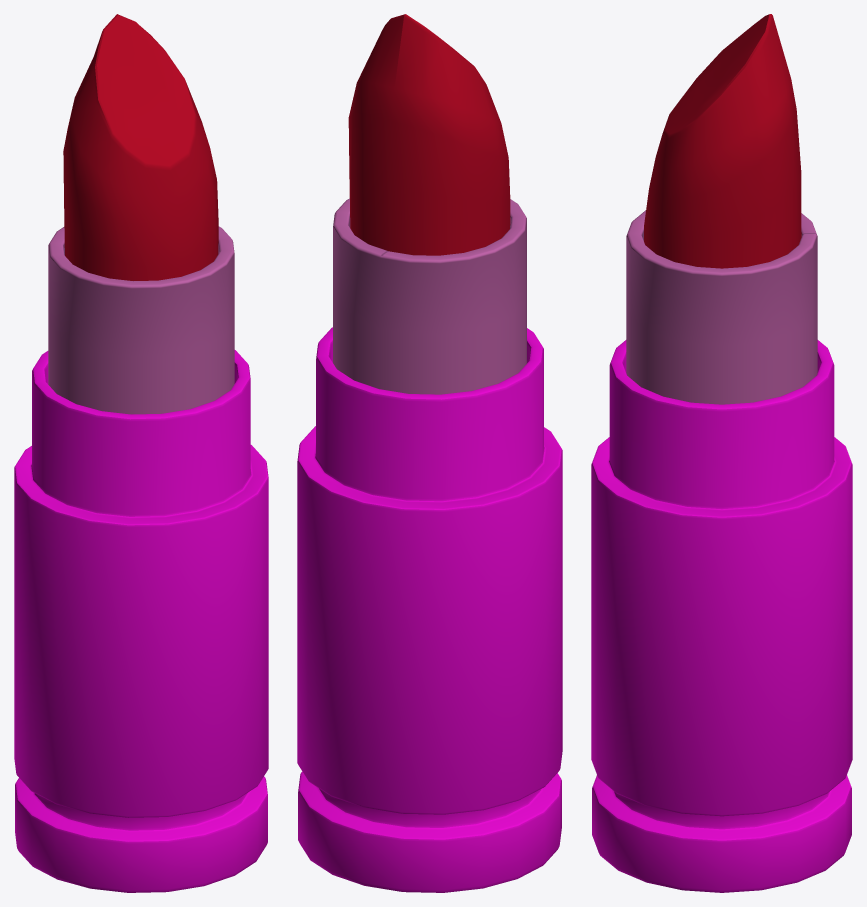
The model's file is lipstick.glb.
3 renders of one model, left to right at view 1: azimuth 30°, elevation 25°; view 2: azimuth 150°, elevation 25°; view 3: azimuth 270°, elevation 25°, orthographic. The views are drawn at different scales.
Parts seen in each view (by area): view 1: Lipstick_Mesh_; view 2: Lipstick_Mesh_; view 3: Lipstick_Mesh_.
Part boxes in pixels (x1=…): Lipstick_Mesh_: x1=14, y1=14, x2=268, y2=892; Lipstick_Mesh_: x1=297, y1=14, x2=562, y2=892; Lipstick_Mesh_: x1=591, y1=14, x2=852, y2=892.
Bounding box in the file's own units: 0.0168 × 0.0585 × 0.0168.
Materials: 3 (2 with a texture image).
